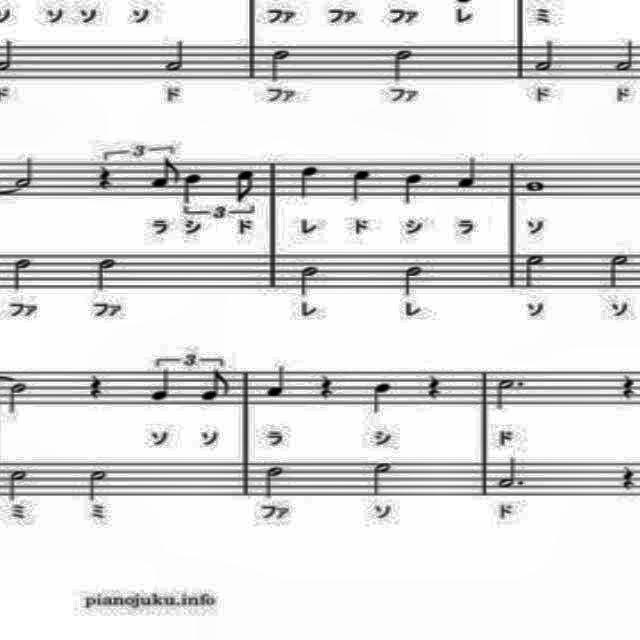Eighth-note: (143, 157, 185, 196), (194, 364, 234, 404), (231, 162, 261, 206)
Full-note: (522, 176, 554, 196)
Half-dot: (492, 370, 528, 414), (496, 455, 528, 493)
Half-note: (384, 42, 422, 86), (401, 261, 433, 303), (518, 250, 550, 290), (368, 458, 396, 502), (259, 458, 287, 502), (604, 251, 632, 293), (268, 45, 296, 87), (162, 38, 190, 76), (534, 36, 562, 74), (11, 254, 37, 294), (8, 154, 36, 190), (296, 264, 324, 300), (6, 377, 30, 419), (93, 256, 119, 294), (5, 466, 31, 504), (85, 464, 109, 504), (612, 38, 636, 76)
Quarter-note: (295, 160, 325, 203), (145, 367, 175, 409), (262, 360, 292, 402), (346, 162, 374, 205), (368, 379, 397, 417), (455, 156, 481, 194), (400, 170, 424, 210), (180, 166, 203, 207)
Quarter-rest: (82, 370, 110, 404), (614, 369, 640, 401), (93, 160, 119, 192), (616, 459, 638, 496), (424, 368, 446, 402), (317, 371, 339, 402)
